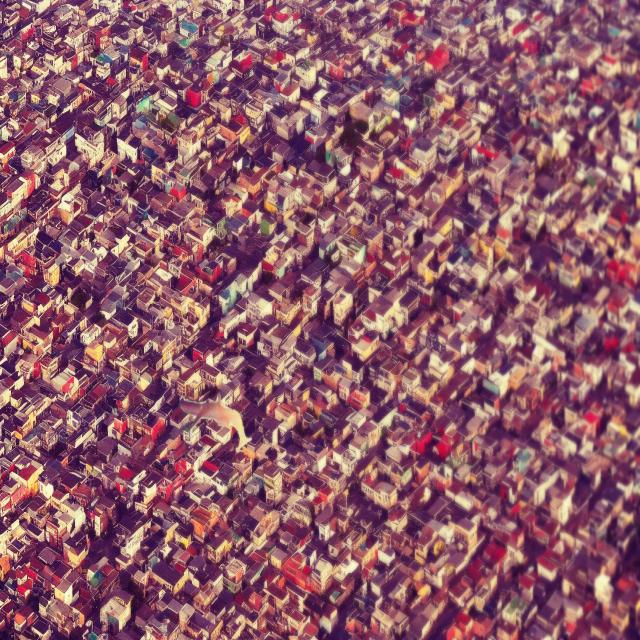airplane: (180, 394, 252, 450)
